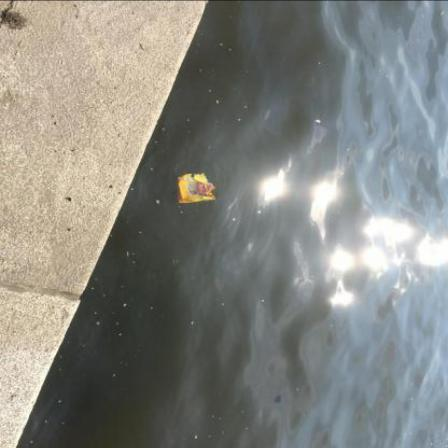Other plastic: (129, 252, 131, 257)
Plastic bag - wrapper: (178, 174, 216, 204)
Unlabeled litter: (174, 259, 176, 264), (178, 262, 179, 263)
